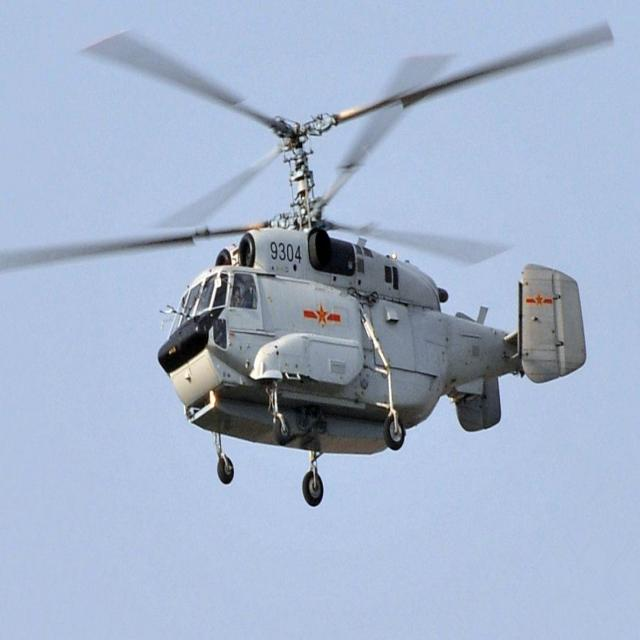MIL_HELO: (0, 21, 629, 510)
